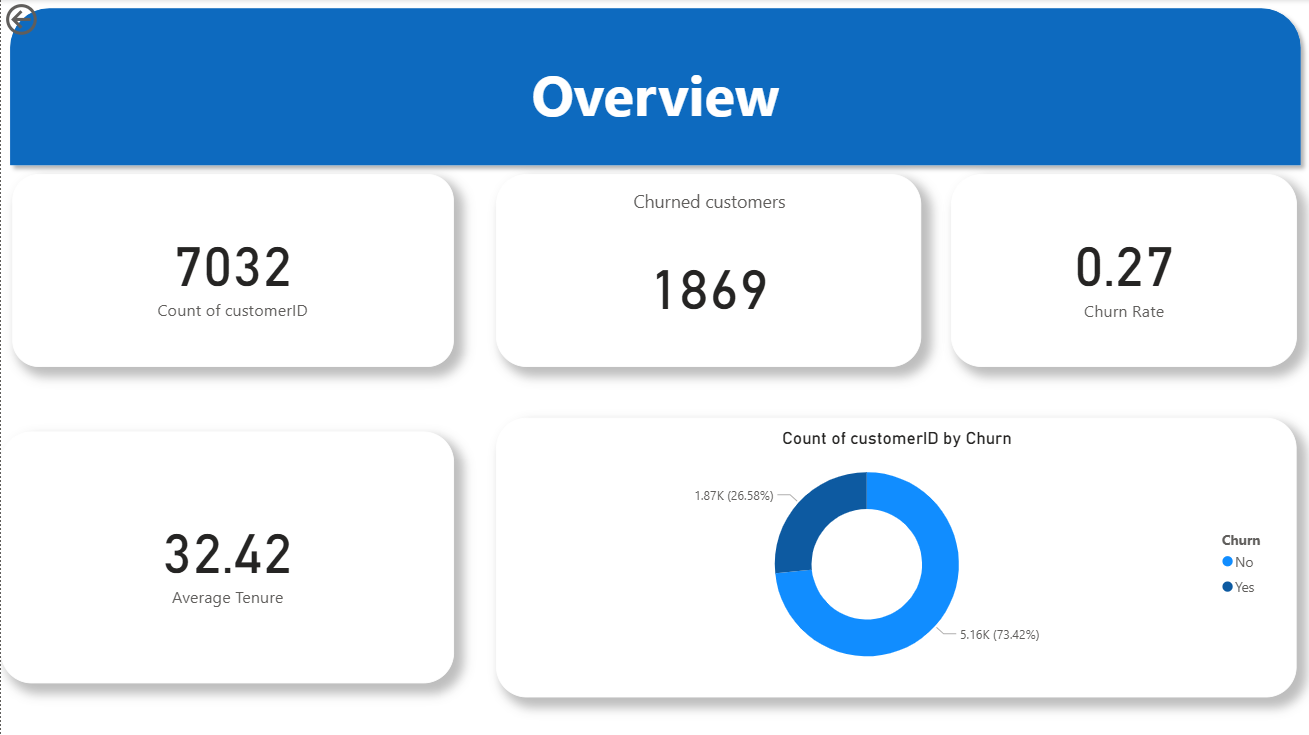

What the dashboard file says about the page in this screenshot:
{"tool":"powerbi","page":{"name":"Overview","canvas":[1280,720],"ordinal":0},"visuals":[{"type":"shape","box":[0,0,1280.3,171.6],"z":0},{"type":"card","fields":{"Values":["Count(cleaned_telco_churn_bi (1).customerID)"]},"box":[11.1,171.6,432.1,189],"z":1000},{"type":"card","fields":{"Values":["Count(cleaned_telco_churn_bi (1).customerID)"]},"box":[484.5,171.6,416.2,189],"z":2000},{"type":"actionButton","box":[0,0,100,40],"z":3000},{"type":"card","fields":{"Values":["cleaned_telco_churn_bi (1).Churn Rate"]},"box":[929.3,171.6,338.3,189],"z":4000},{"type":"card","fields":{"Values":["cleaned_telco_churn_bi (1).Average Tenure"]},"box":[0,422.5,443.2,246.2],"z":5000},{"type":"donutChart","fields":{"Category":["cleaned_telco_churn_bi (1).Churn"],"Y":["Count(cleaned_telco_churn_bi (1).customerID)"]},"box":[484.5,409.8,783.1,273.2],"z":6000}]}

Visuals, with their boxes in screenshot pixels (x1, y1, x2, y2), scaled from the page's 1280x720 canvas onto the 1309x735 screenshot:
shape: bbox=[0, 0, 1308, 175]
card - Count(cleaned_telco_churn_bi (1).customerID): bbox=[11, 175, 453, 368]
card - Count(cleaned_telco_churn_bi (1).customerID): bbox=[495, 175, 921, 368]
actionButton: bbox=[0, 0, 102, 41]
card - cleaned_telco_churn_bi (1).Churn Rate: bbox=[950, 175, 1296, 368]
card - cleaned_telco_churn_bi (1).Average Tenure: bbox=[0, 431, 453, 683]
donutChart - cleaned_telco_churn_bi (1).Churn x Count(cleaned_telco_churn_bi (1).customerID): bbox=[495, 418, 1296, 697]
